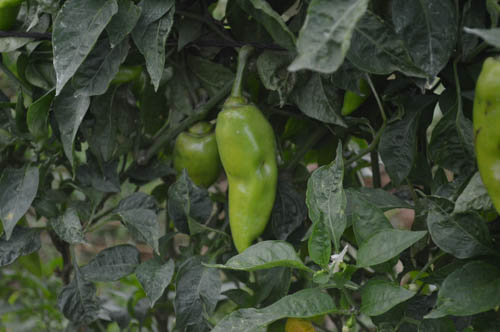ChiliPepper: (209, 109, 276, 252), (465, 58, 498, 214), (168, 131, 222, 193)
